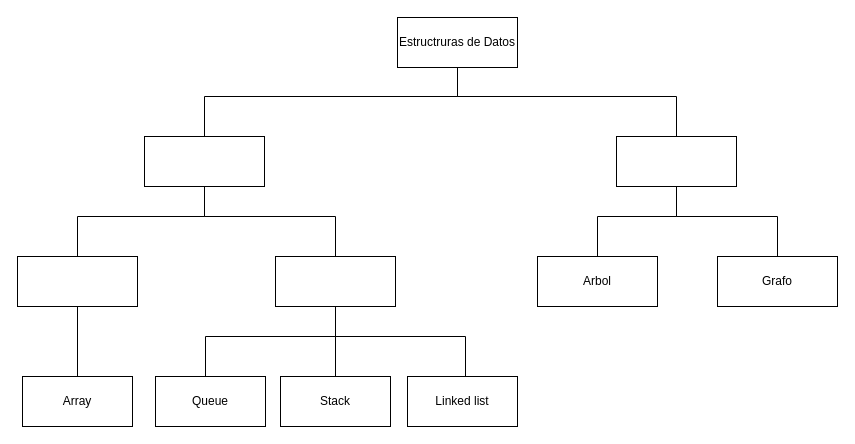
Some shapes in this 855 by 444 pixel diagram are drawn without their labels. The centre of each missing label's shape, as x and y in pixels:
"Dinámica" goes at point 335,281.
"Estructrura de Datos Lineal" goes at point 204,161.
"Estructrura de Datos No Lineal" goes at point 676,161.
"Estática" goes at point 77,281.
